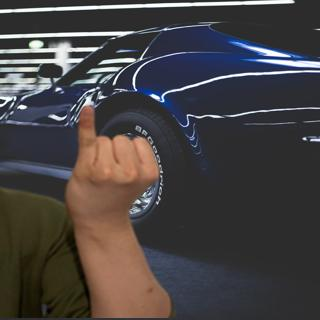FINE: (62, 103, 163, 233)
